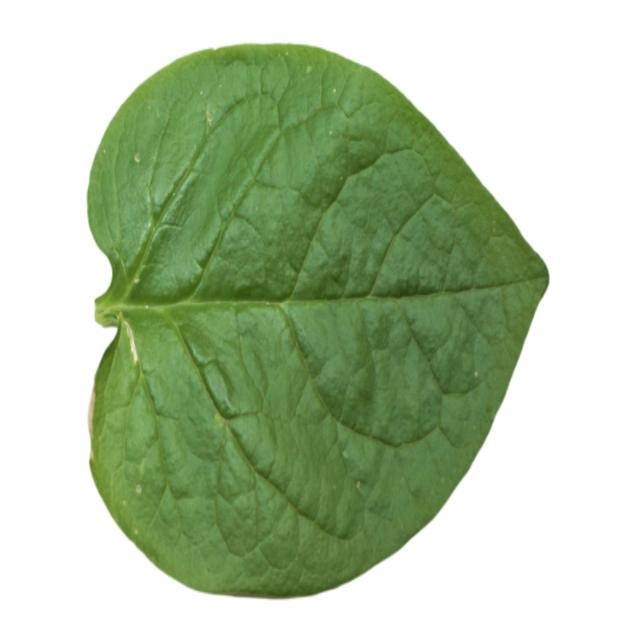Medicinal-Basale: (85, 43, 549, 599)
